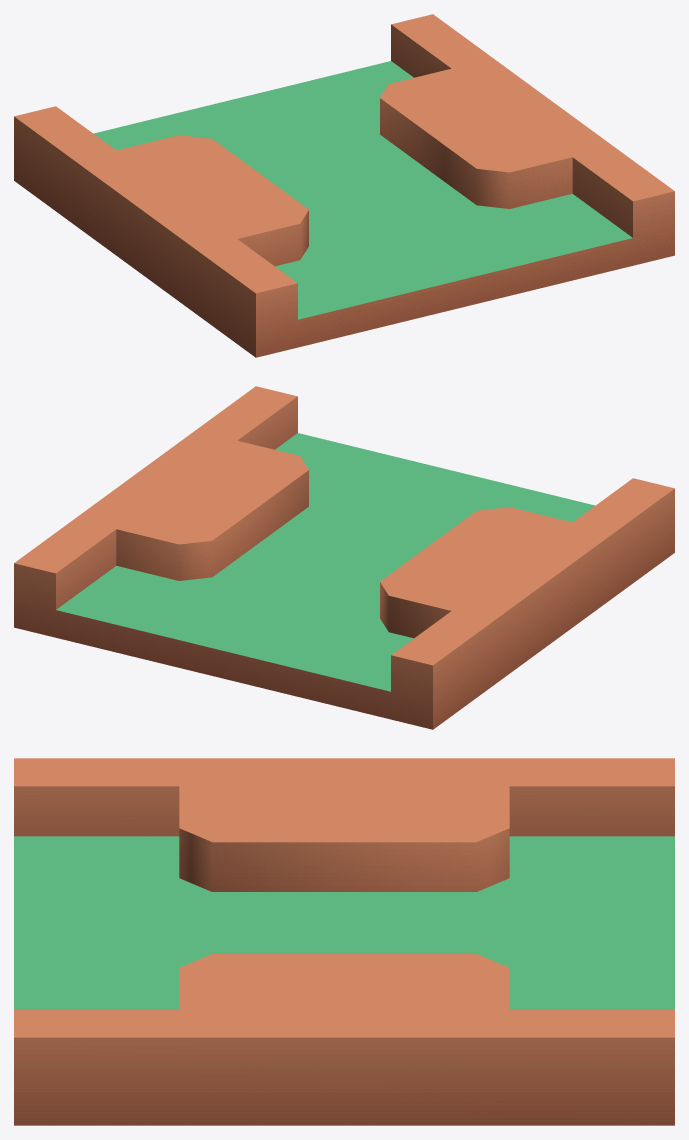
File: narrow_block.glb
The picture shows the model from 3 angles, top to bottom: view 1: azimuth 30°, elevation 25°; view 2: azimuth 150°, elevation 25°; view 3: azimuth 270°, elevation 25°; orthographic projection. The views are drawn at different scales.
Visible parts, largest first — view 1: narrow-block; view 2: narrow-block; view 3: narrow-block.
Boxes of the visible parts, x1,y1,x2,y2 form: narrow-block: [14, 14, 674, 357]; narrow-block: [14, 386, 674, 729]; narrow-block: [14, 758, 674, 1125].
Size of the model in its own units: 0.9999 by 0.1467 by 0.9999.
Materials: 1 (1 with a texture image).
